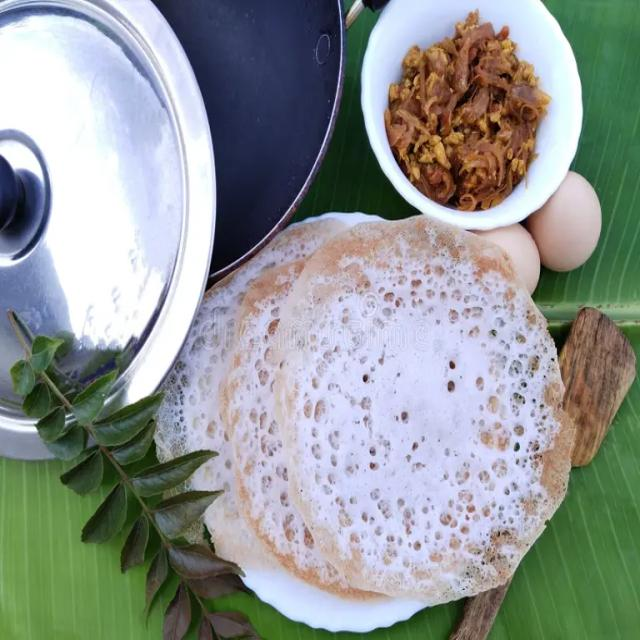AAPAM: (154, 212, 573, 632)
FISH FRY: (384, 10, 549, 211)
